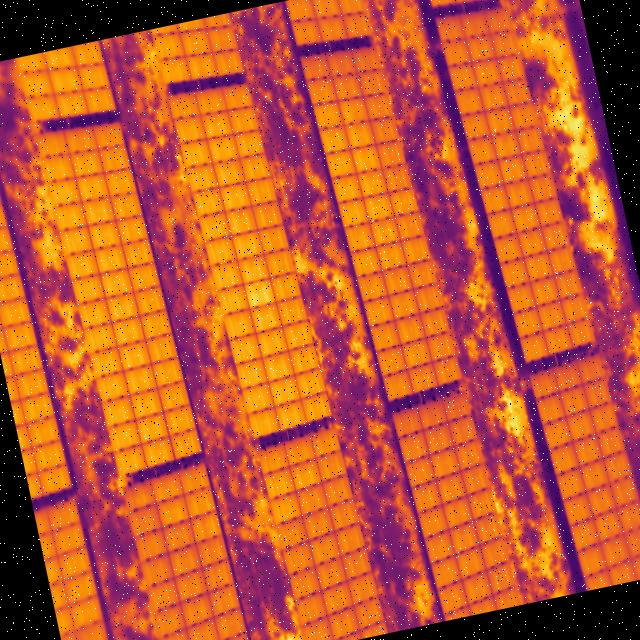Hotspot: (243, 275, 277, 309)
